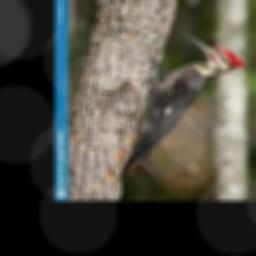Woodpecker: (121, 33, 244, 180)
